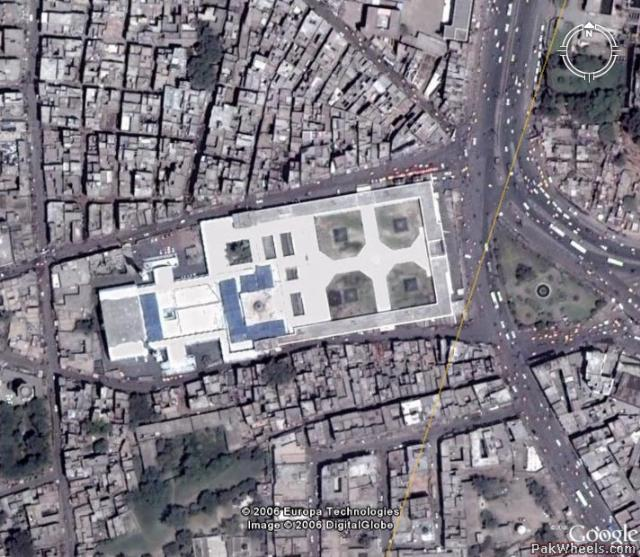solar-panel: (219, 263, 284, 338), (140, 289, 169, 342)
